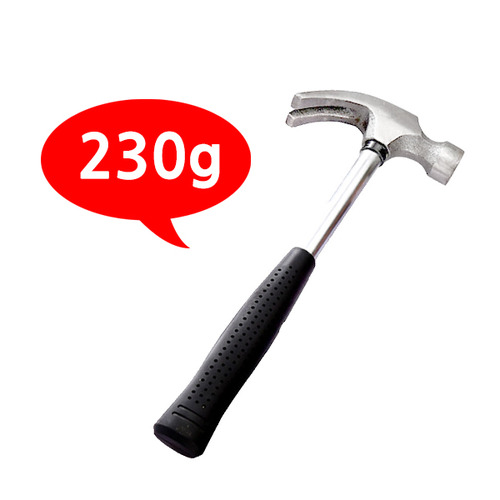hammer: (140, 52, 473, 463)
